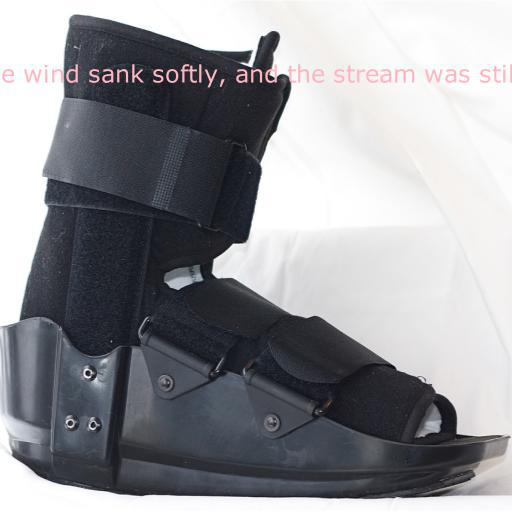Verdana: (0, 64, 512, 88)
